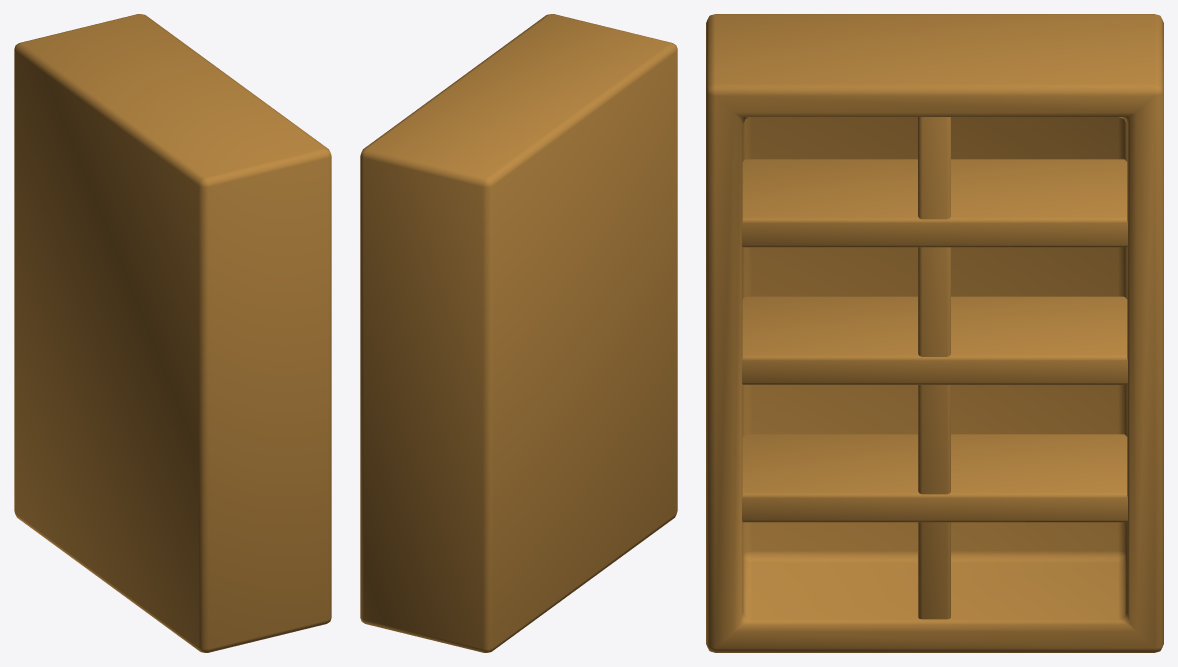
The model's file is Bookcase2.fbx.
3 views of the same model, side by side, from view 1: azimuth 30°, elevation 25°; view 2: azimuth 150°, elevation 25°; view 3: azimuth 270°, elevation 25° (orthographic). The views are drawn at different scales.
Visible parts, largest first — view 1: Bookcase2; view 2: Bookcase2; view 3: Bookcase2.
Boxes of the visible parts, <box> form: Bookcase2: <box>14,14,331,652</box>; Bookcase2: <box>360,14,677,652</box>; Bookcase2: <box>706,14,1163,652</box>.
Bounding box in the file's own units: 0.5784 × 1.45 × 1.99.
